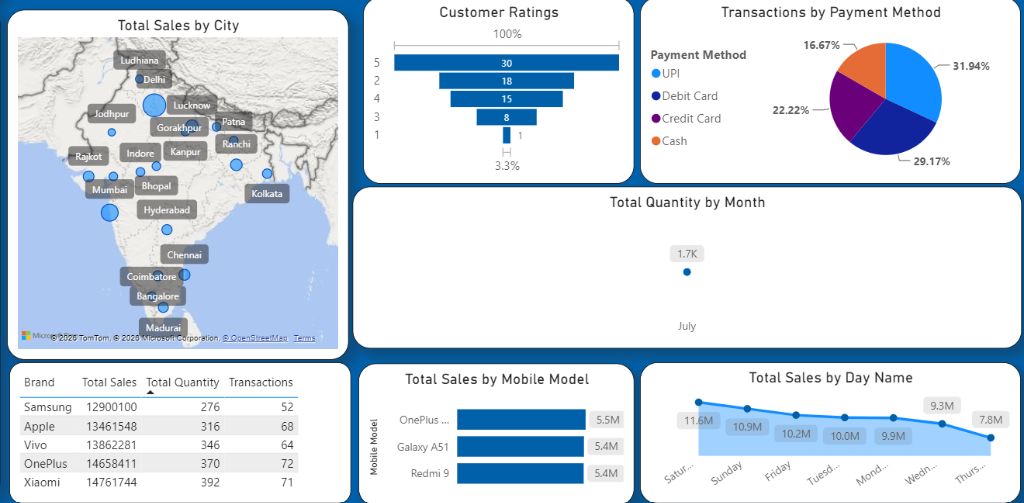

Layout of this report page (visuals, bound fields, positions):
{"tool":"powerbi","page":{"name":"Page 1","canvas":[1280,720],"ordinal":0},"visuals":[{"type":"shape","box":[5.5,6.9,120.8,148.2],"z":0},{"type":"image","box":[9.6,16.5,113.9,116.6],"z":1000},{"type":"shape","box":[6.9,156.4,119.4,554.4],"z":2000},{"type":"advancedSlicerVisual","fields":{"Values":["Sales_Data.Date.Variation.Date Hierarchy.Month"]},"box":[11,160.5,111.1,548.9],"z":3000},{"type":"cardVisual","fields":{"Data":["Sales_Data.Total Sales","Sales_Data.Total Quantity","Sales_Data.Transactions","Sales_Data.Average"]},"box":[531.7,6.7,732.9,139.3],"z":4000},{"type":"map","fields":{"Category":["Sales_Data.City"],"Size":["Sales_Data.Total Sales"]},"box":[132.9,160.8,384.1,393.1],"z":5000},{"type":"lineChart","fields":{"Category":["Sales_Data.Date.Variation.Date Hierarchy.Month","Sales_Data.Date.Variation.Date Hierarchy.Day"],"Y":["Sales_Data.Total Quantity"]},"box":[521.7,360,751.7,181.7],"z":6000},{"type":"clusteredBarChart","fields":{"Category":["Sales_Data.Mobile Model"],"Y":["Sales_Data.Total Sales"]},"box":[528.3,558.5,310.1,160.5],"z":7000},{"type":"pieChart","fields":{"Category":["Sales_Data.Payment Method"],"Y":["Sales_Data.Transactions"]},"box":[845,146.7,428.1,209.9],"z":8000},{"type":"funnel","title":"Customer Ratings","fields":{"Category":["Sales_Data.Customer Ratings"],"Y":["CountNonNull(Sales_Data.Customer Ratings)"]},"box":[533.3,146.7,304.6,209.9],"z":9000},{"type":"areaChart","fields":{"Category":["Sales_Data.Day Name"],"Y":["Sales_Data.Total Sales"]},"box":[845.3,557.1,428.1,159.2],"z":10000},{"type":"tableEx","fields":{"Values":["Sales_Data.Brand","Sales_Data.Total Sales","Sales_Data.Total Quantity","Sales_Data.Transactions"]},"box":[135.8,557.1,384.2,159.2],"z":11000},{"type":"slicer","fields":{"Values":["Sales_Data.Mobile Model"]},"box":[139.3,4.5,166.6,69.7],"z":12000},{"type":"slicer","fields":{"Values":["Sales_Data.Payment Method"]},"box":[139.3,80.3,166.6,69.7],"z":13000},{"type":"slicer","fields":{"Values":["Sales_Data.Brand"]},"box":[322.5,4.5,183.2,69.7],"z":14000},{"type":"slicer","fields":{"Values":["Sales_Data.Day Name"]},"box":[322.5,80.3,183.2,69.7],"z":15000}]}

Visuals, with their boxes on the page's 1280x720 design canvas (x1, y1, x2, y2). These are canvas units, not pixel positions in the 1024x503 screenshot, which may show the page scaled, cropped or inside an application window:
shape: 6:7:126:155
image: 10:16:124:133
shape: 7:156:126:711
advancedSlicerVisual - Sales_Data.Date.Variation.Date Hierarchy.Month: 11:160:122:709
cardVisual - Sales_Data.Total Sales x Sales_Data.Total Quantity: 532:7:1265:146
map - Sales_Data.City x Sales_Data.Total Sales: 133:161:517:554
lineChart - Sales_Data.Date.Variation.Date Hierarchy.Month x Sales_Data.Date.Variation.Date Hierarchy.Day: 522:360:1273:542
clusteredBarChart - Sales_Data.Mobile Model x Sales_Data.Total Sales: 528:558:838:719
pieChart - Sales_Data.Payment Method x Sales_Data.Transactions: 845:147:1273:357
"Customer Ratings" funnel: 533:147:838:357
areaChart - Sales_Data.Day Name x Sales_Data.Total Sales: 845:557:1273:716
tableEx - Sales_Data.Brand x Sales_Data.Total Sales: 136:557:520:716
slicer - Sales_Data.Mobile Model: 139:4:306:74
slicer - Sales_Data.Payment Method: 139:80:306:150
slicer - Sales_Data.Brand: 322:4:506:74
slicer - Sales_Data.Day Name: 322:80:506:150
